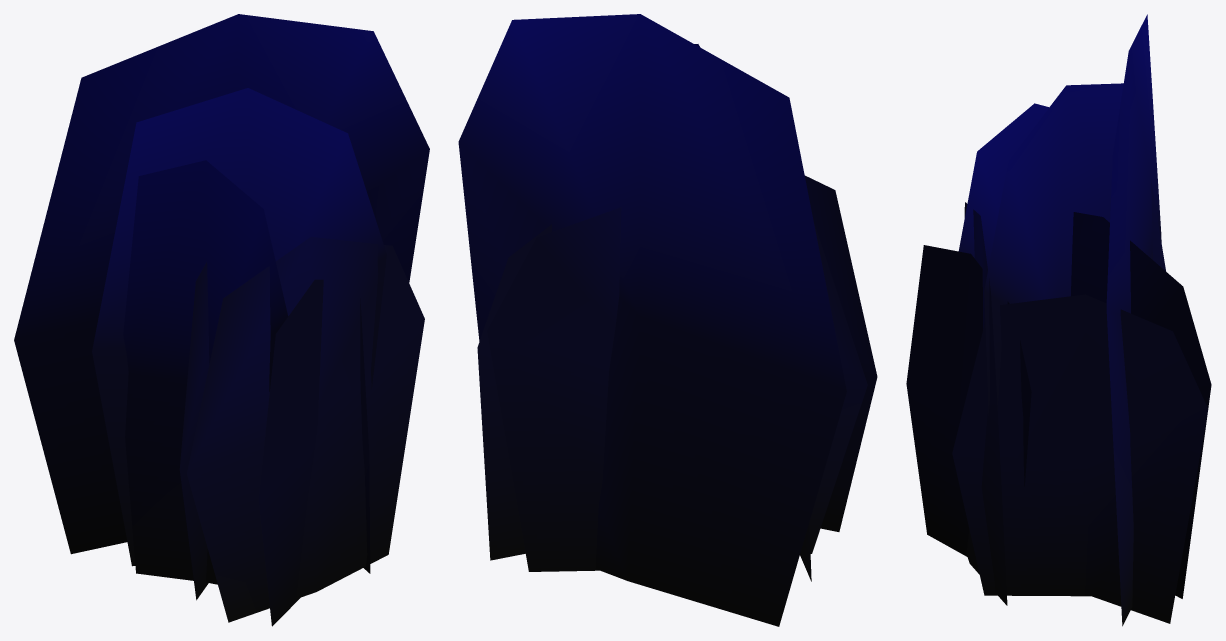
The model's file is SM_Grass_M_Patch_S_01.fbx.
3 views of the same model, side by side, from view 1: azimuth 30°, elevation 25°; view 2: azimuth 150°, elevation 25°; view 3: azimuth 270°, elevation 25° (orthographic). The views are drawn at different scales.
Parts seen in each view (by area): view 1: SM_Grass_M_Patch_S_01; view 2: SM_Grass_M_Patch_S_01; view 3: SM_Grass_M_Patch_S_01.
Boxes of the visible parts, x1,y1,x2,y2 form: SM_Grass_M_Patch_S_01: [14, 14, 429, 626]; SM_Grass_M_Patch_S_01: [458, 14, 877, 626]; SM_Grass_M_Patch_S_01: [906, 14, 1211, 626].
Size of the model in its own units: 108 by 74.48 by 139.
